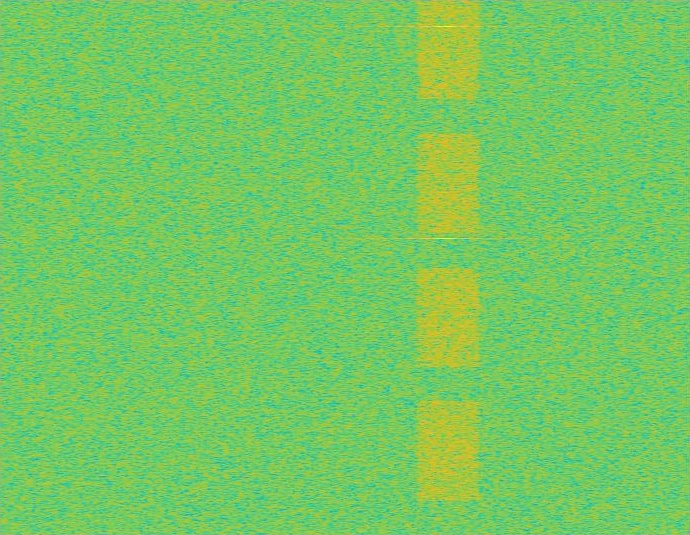5G: (414, 0, 483, 534)
Radar: (438, 0, 452, 534)
